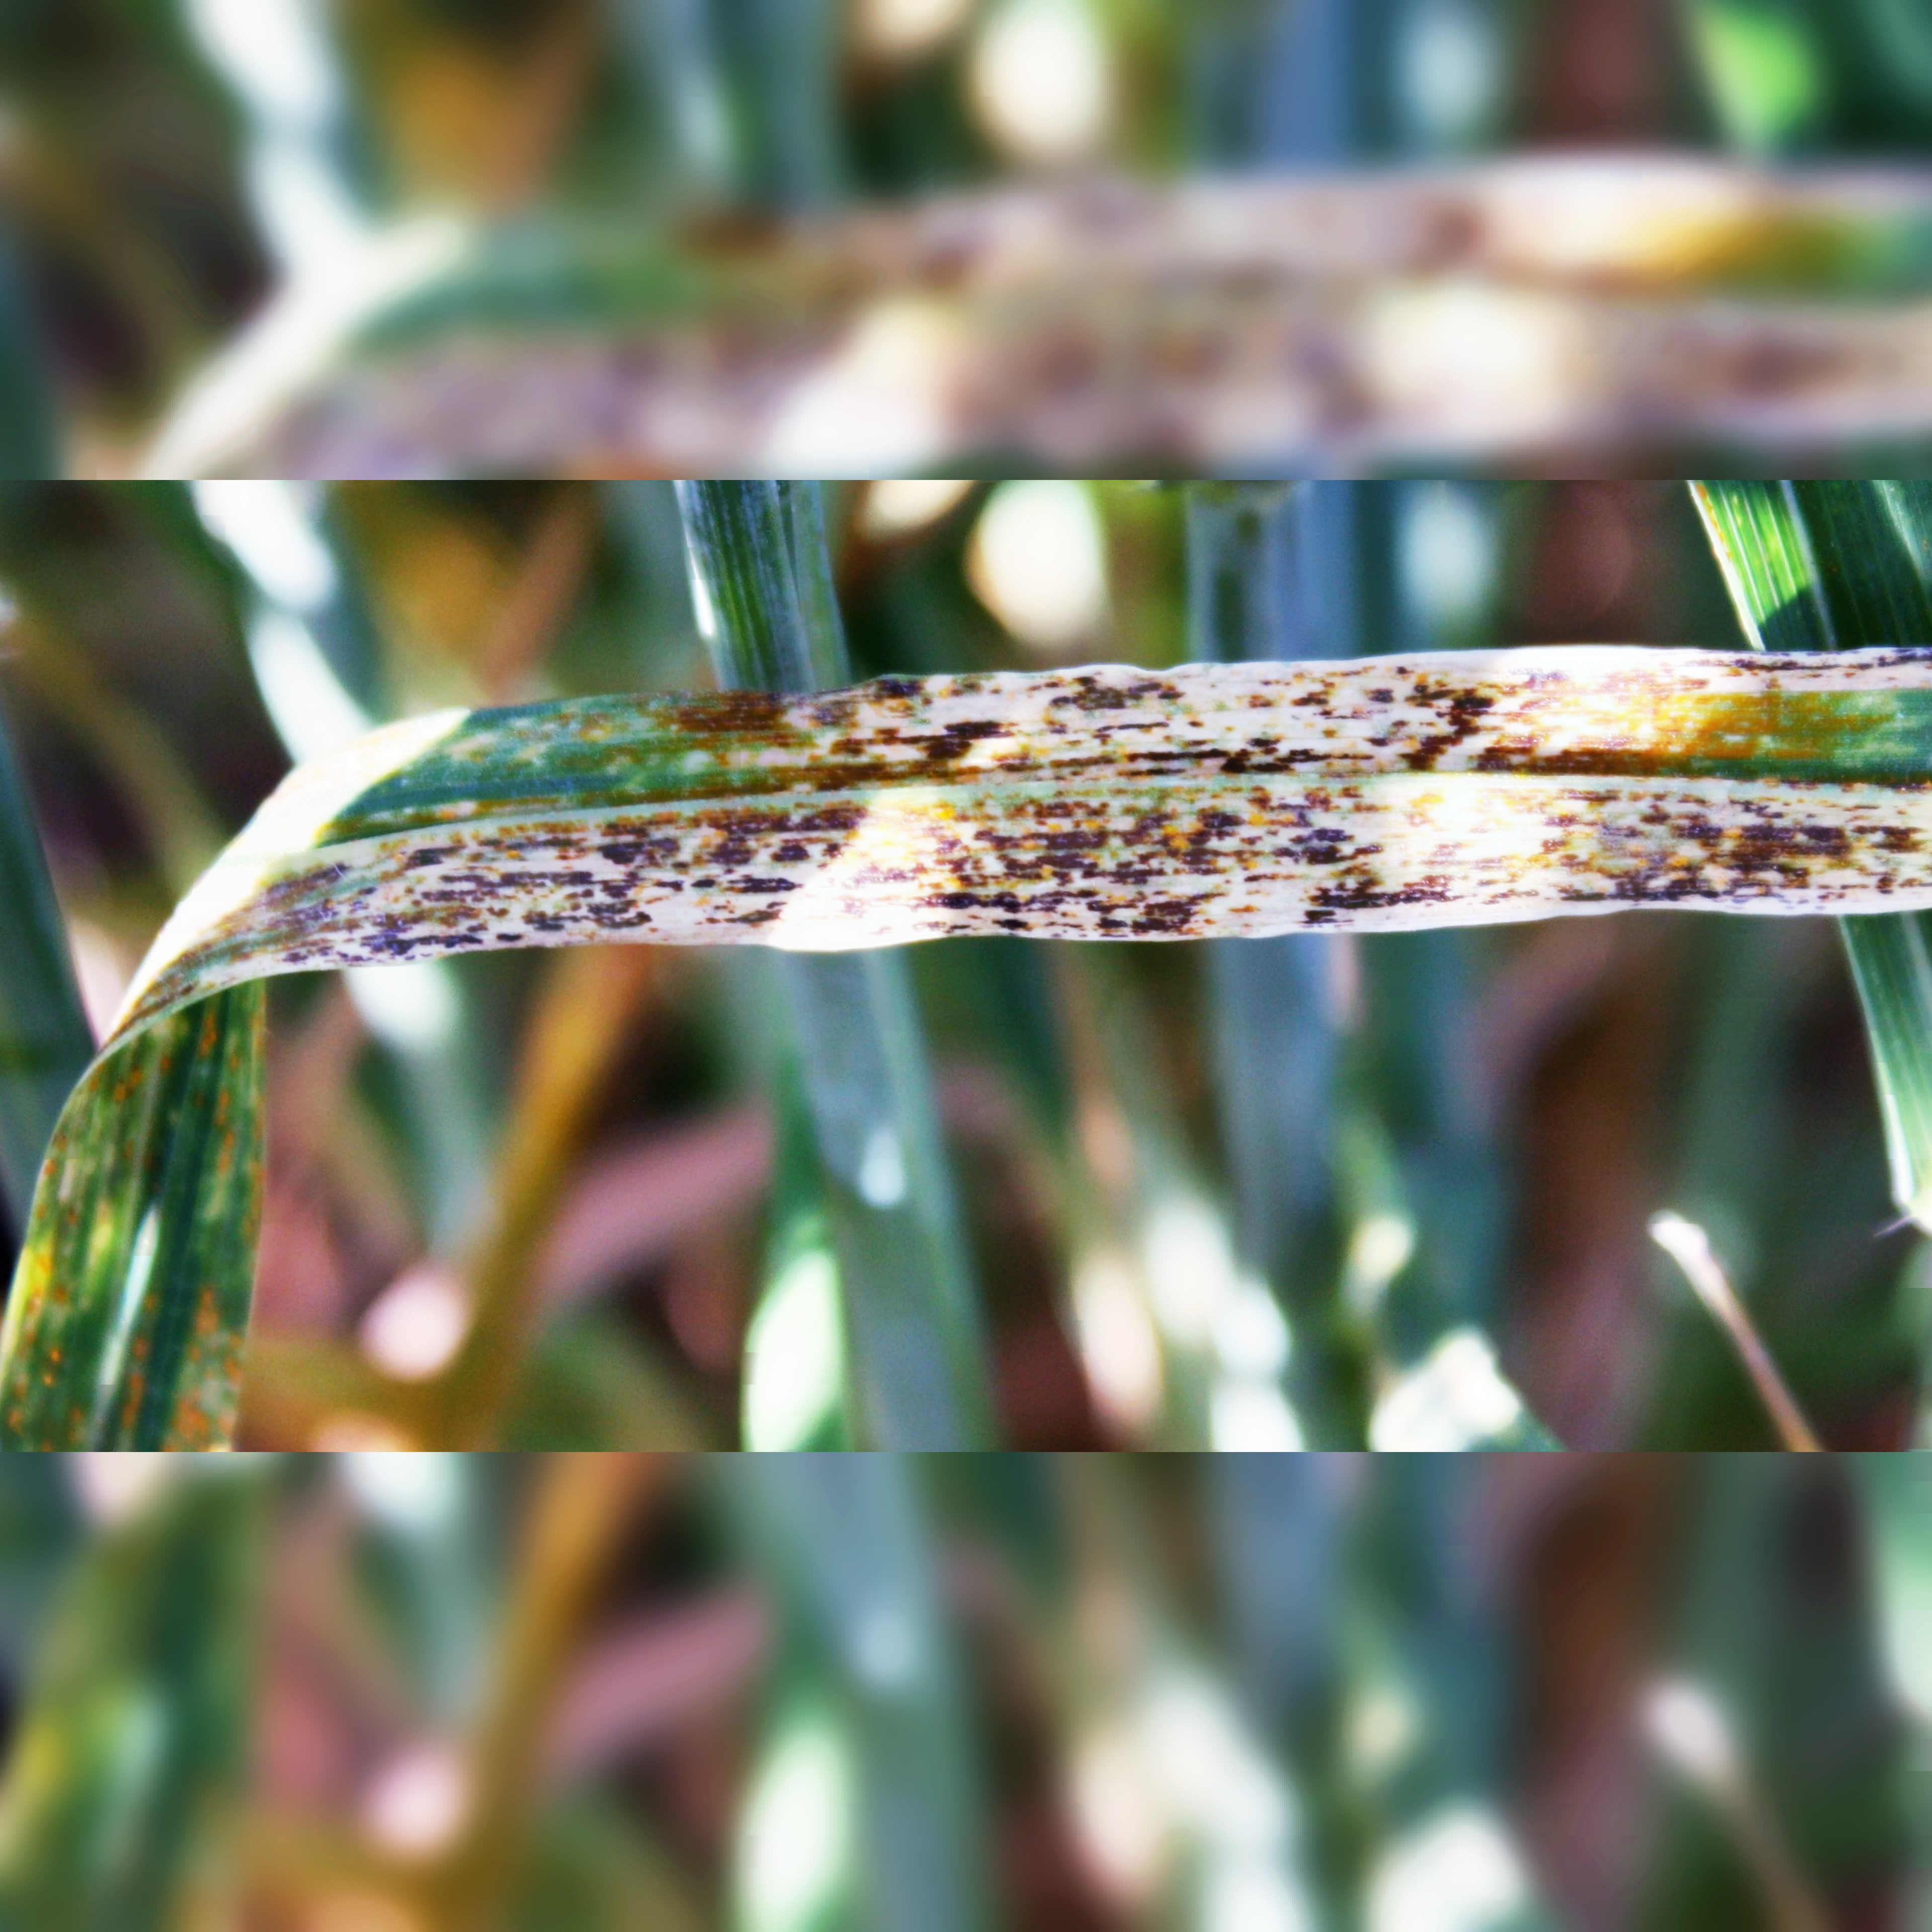Leaf Rust: (393, 672, 1877, 964)
